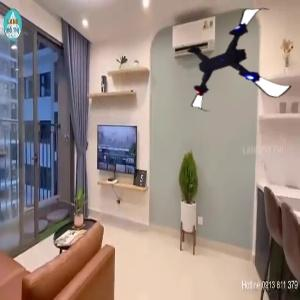drone: (183, 5, 289, 111)
